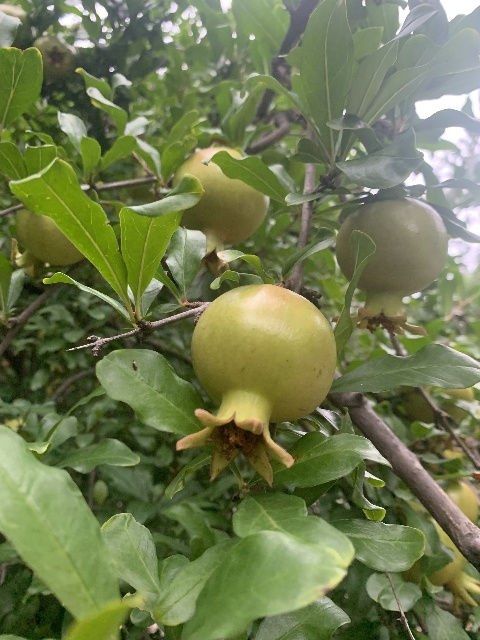mid-growth: (174, 283, 336, 489), (331, 197, 447, 335), (171, 147, 269, 278), (408, 517, 480, 612), (10, 208, 85, 277), (32, 34, 76, 80), (443, 480, 477, 525)
